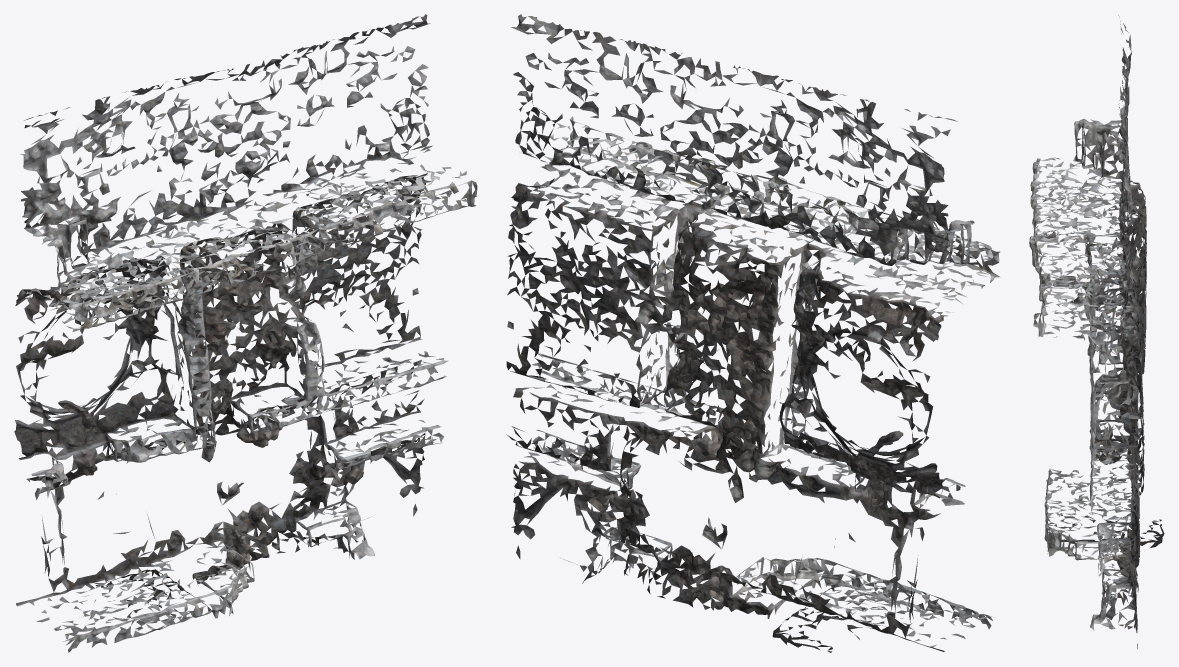
3 renders of one model, left to right at view 1: azimuth 30°, elevation 25°; view 2: azimuth 150°, elevation 25°; view 3: azimuth 270°, elevation 25°, orthographic. The views are drawn at different scales.
Size of the model in its own units: 11.94 by 14.21 by 3.68.
Materials: 1 (1 with a texture image).
